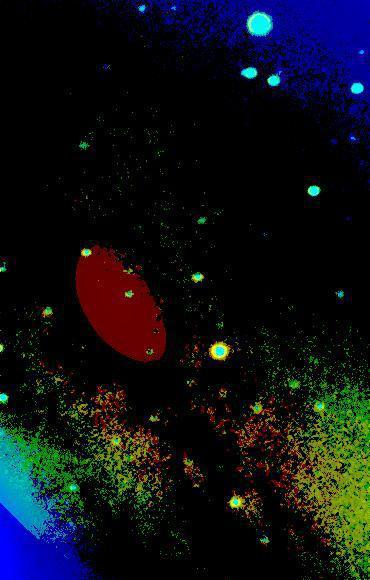star: (224, 225, 254, 255)
